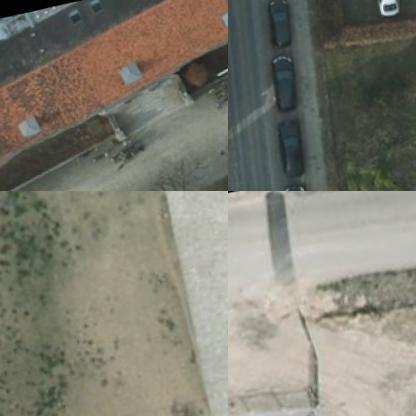car: (258, 0, 313, 52), (262, 52, 300, 112), (270, 113, 308, 173), (369, 0, 404, 16)
